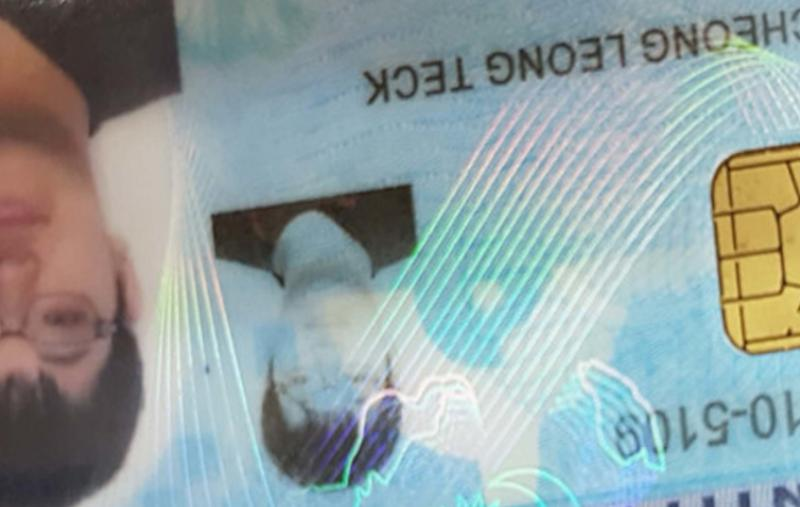hologram: (434, 92, 697, 343)
